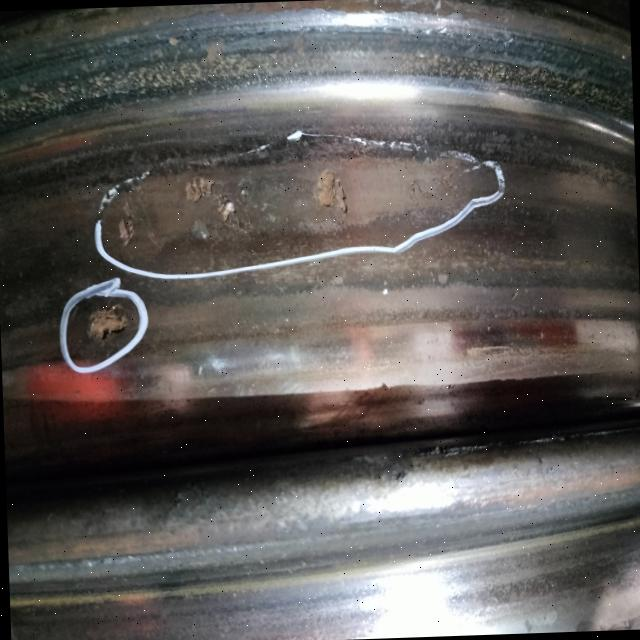Blue hole: (302, 162, 362, 226), (118, 189, 158, 253), (81, 303, 129, 350)
Peeling: (181, 173, 254, 247)
